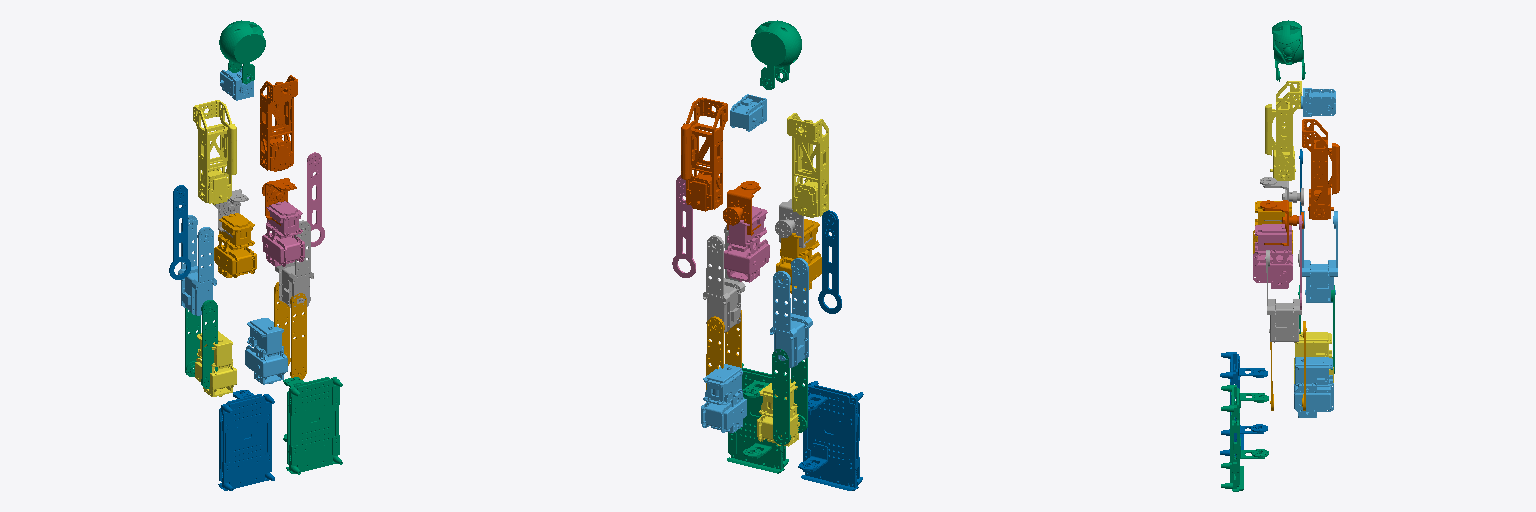
--- Render facts (derived) ---
The picture shows the robot from 3 angles, left to right: view 1: azimuth 30°, elevation 25°; view 2: azimuth 150°, elevation 25°; view 3: azimuth 270°, elevation 25°; orthographic projection.
Robot: human — 19 links, 18 joints (16 revolute, 2 fixed); root link chest; default pose: every joint at zero.
Links seen in each view (by area): view 1: right_foot, left_foot, left_arm, right_arm, left_leg_pitch, right_leg_ankle, right_leg_roll, left_leg_roll, left_leg_knee, right_leg_knee, head, right_leg_pitch (+6 smaller); view 2: left_foot, right_arm, left_arm, left_leg_pitch, right_foot, right_leg_ankle, left_leg_knee, head, right_leg_pitch, right_leg_roll, right_leg_knee, left_hand (+6 smaller); view 3: right_arm, left_arm, right_leg_roll, right_leg_ankle, right_foot, left_leg_pitch, right_leg_pitch, head, left_foot, neck, left_leg_ankle, right_leg_yaw (+1 smaller).
Boxes of the visible links, x1,y1,x2,y2 form: right_foot: [283, 377, 342, 474]; left_foot: [218, 390, 274, 490]; left_arm: [193, 100, 236, 204]; right_arm: [260, 75, 297, 171]; left_leg_pitch: [178, 215, 216, 315]; right_leg_ankle: [245, 318, 287, 384]; right_leg_roll: [262, 201, 304, 266]; left_leg_roll: [214, 213, 256, 277]; left_leg_knee: [185, 300, 217, 388]; right_leg_knee: [274, 282, 306, 379]; head: [219, 20, 265, 83]; right_leg_pitch: [275, 220, 313, 307]; left_foot: [798, 381, 863, 490]; right_arm: [681, 97, 727, 211]; left_arm: [787, 113, 828, 217]; left_leg_pitch: [770, 258, 812, 367]; right_foot: [727, 363, 788, 473]; right_leg_ankle: [701, 364, 746, 432]; left_leg_knee: [772, 349, 807, 445]; head: [751, 20, 801, 89]; right_leg_pitch: [703, 225, 745, 332]; right_leg_roll: [724, 206, 769, 282]; right_leg_knee: [706, 310, 741, 389]; left_hand: [818, 210, 841, 313]; right_arm: [1302, 119, 1339, 219]; left_arm: [1265, 81, 1301, 180]; right_leg_roll: [1253, 224, 1292, 288]; right_leg_ankle: [1294, 357, 1333, 417]; right_foot: [1221, 385, 1268, 491]; left_leg_pitch: [1302, 211, 1337, 302]; right_leg_pitch: [1265, 250, 1301, 342]; head: [1272, 20, 1305, 81]; left_foot: [1220, 352, 1267, 456]; neck: [1301, 88, 1335, 116]; left_leg_ankle: [1294, 332, 1333, 383]; right_leg_yaw: [1260, 200, 1303, 245].
Bounding box of the posed robot: 0.2915 × 0.1939 × 0.7832 m (x, y, z).
18 mesh visuals loaded from 19 distinct referenced files (18 binary STL); not drawn: 1 (reference not matched to a file when rendering).

URDF robot description (human):
<?xml version="1.0" ?>
<robot name='human'>
    <link name='chest'>
        <inertial>
            <origin rpy="0.000000 0.000000 0.000000 " xyz="-0.000184 -0.004516 -0.057124 "/>
            <mass value="0.88192504598295396"/>
            <inertia ixx="0.00046345121044283501"  ixy="-1.69677482344443e-08"  ixz="3.1548801144944602e-07"  iyy="0.000627560669282691"  iyz="-2.8050692226923402e-06"  izz="0.00057015264499342302" />
        </inertial>
        <collision name='chest_box'>
            <origin rpy="0.000000 0.000000 0.000000 " xyz="0.000000 0.005000 -0.050000 "/>
            <geometry>
            <box size="0.1125 0.0975 0.14" />
            </geometry>
        </collision>
        <collision name='chest_cylinder'>
            <origin rpy="0.000000 1.570796 0.000000 " xyz="0.000000 -0.075699 0.038000 "/>
            <geometry>
            <cylinder radius="0.008"  length="0.1146" />
            </geometry>
        </collision>
        <visual name='chest_visual'>
        <origin rpy="-1.570796327 0.0 0.0" xyz="0.0 0.0 0.0"/>
            <geometry>
            <mesh filename="../meshes/chest.STL" />
            </geometry>
        </visual>
    </link>
    <joint name='head_yaw' type='fixed'>
        <origin rpy="0.000000 0.000000 0.000000 " xyz="0 0.0134 0.020750000000000046"/>
        <parent link="chest" />
        <child link="neck" />
        <axis xyz="0 0 1"  />
        <limit lower="-3.141592654"  upper="3.141592654"  effort="3"  velocity="20"  />
        <dynamics  damping="0.0347"  friction="0.0843" />
    </joint>
    <link name='neck'>
        <inertial>
        <origin rpy="0.000000 0.000000 0.000000 " xyz="-0.000076 0.000000 0.026023 "/>
        <mass value="0.054959742050374599"/>
        <inertia ixx="1.1553114985236599e-05"  ixy="-6.3224562597767901e-12"  ixz="1.10127762796851e-07"  iyy="1.38245264991759e-05"  iyz="-6.4352650730185303e-12"  izz="1.0034260801326499e-05" />
        </inertial>
        <collision name='neck_collision1'>
        <origin rpy="0.000000 0.000000 0.000000 " xyz="0.000000 0.000000 0.030400 "/>
        <geometry>
            <box size="0.0302 0.0356 0.0396" />
        </geometry>
        </collision>
        <collision name='neck_collision2'>
        <origin rpy="0.000000 0.000000 0.000000 " xyz="0.000000 0.000027 0.033190 "/>
        <geometry>
            <box size="0.0355 0.0243864 0.0451795" />
        </geometry>
        </collision>
        <collision name='neck_collision3'>
        <origin rpy="0.000000 0.000000 0.000000 " xyz="0.000000 0.000000 0.009500 "/>
        <geometry>
            <box size="0.0342 0.0355 0.015" />
        </geometry>
        </collision>
        <visual name='neck_visual'>
            <origin rpy="-1.570796327 0.000000 0.0 " xyz="0.000000 0.000000 0.000000 "/>
        <geometry>
            <mesh filename="../meshes/neck.STL" />
        </geometry>
        <material name='neck_material'>
            <rgba>1 1 1 1</rgba>
        </material>
        </visual>
    </link>
    <joint name='head_pitch' type='fixed'>
        <origin rpy="1.570796 -1.491213 -1.570796 " xyz="-0.018750 0.000000 0.043800 "/>
        <parent link="neck" />
        <child link="head" />
        <axis xyz="-4.5536491244391186e-18 0 1"  />
        <limit lower="-3.141592654"  upper="3.141592654"  effort="3"  velocity="20"  />
        <dynamics  damping="0.0347"  friction="0.0843" />
    </joint>
    <link name='head'>
        <inertial>
        <origin rpy="0.000000 0.000000 0.000000 " xyz="0.051352 0.005381 -0.018302 "/>
        <mass value="0.080370395509901299"/>
        <inertia ixx="2.0782839377867802e-05"  ixy="-5.7039686565431499e-07"  ixz="-6.5737404978777497e-09"  iyy="4.5624129183850597e-05"  iyz="1.34009185452834e-08"  izz="3.6502070438585903e-05" />
        </inertial>
        <collision name='head_collision1'>
        <origin rpy="0.000000 0.000000 0.000000 " xyz="0.058663 0.006591 -0.018500 "/>
        <geometry>
            <sphere radius="0.0305397"   />
        </geometry>
        </collision>
        <collision name='head_collision2'>
        <origin rpy="0.000000 0.000000 0.000000 " xyz="0.051820 0.007006 -0.018500 "/>
        <geometry>
            <sphere radius="0.0284086"   />
        </geometry>
        </collision>
        <collision name='head_collision3'>
        <origin rpy="0.000000 0.000000 0.000000 " xyz="0.056195 -0.004012 -0.018500 "/>
        <geometry>
            <sphere radius="0.0349883"   />
        </geometry>
        </collision>
        <visual name='head_visual'>
        <origin rpy="-1.570796327  0.000000 0.0 " xyz="0.000000 0.000000 0.000000 "/>
        <geometry>
            <mesh filename="../meshes/head.STL" />
        </geometry>
        <material name='head_material'>
            <rgba>1 1 1 1</rgba>
        </material>
        </visual>
    </link>
    <joint name='left_arm_upper' type='revolute'>
        <origin rpy="3.141593 1.570796 0.000000 " xyz="-0.074700 0.013400 0.000000 "/>
        <parent link="chest" />
        <child link="left_arm" />
        <axis xyz="0 0 -1"  />
        <limit lower="-3.141592654"  upper="3.141592654"  effort="7"  velocity="20"  />
        <dynamics  damping="0.0347"  friction="0.0843"  />
    </joint>
    <link name='left_arm'>
        <inertial>
        <origin rpy="0.000000 0.000000 0.000000 " xyz="0.080763 0.001886 0.029109 "/>
        <mass value="0.140880482426088"/>
        <inertia ixx="2.0746461598375701e-05"  ixy="-2.8659021101734599e-11"  ixz="-6.7417528894394298e-06"  iyy="0.00012310039515784201"  iyz="-1.5929639449771301e-07"  izz="0.00011999284945507099" />
        </inertial>
        <collision name='left_arm_collision'>
        <origin rpy="0.000000 0.000000 0.000000 " xyz="0.080500 0.000000 0.029000 "/>
        <geometry>
            <box size="0.1271 0.048 0.028" />
        </geometry>
        </collision>
        <visual name='left_arm_visual'>
            <origin rpy="-1.570796327 0.000000 0.0 " xyz="0.000000 0.000000 0.000000 "/>
            <geometry>
                <mesh filename="../meshes/left_arm.STL" />
            </geometry>
            <material name='left_arm_material'>
                <rgba>1 1 1 1</rgba>
            </material>
        </visual>
    </link>
    <joint name='left_arm_lower' type='revolute'>
        <origin rpy="0.0 0.0 0.0 " xyz="0.136000 0 0.04955"/>
        <parent link="left_arm" />
        <child link="left_hand" />
        <axis xyz="0 0 -1"  />
        <limit lower="-3.141592654"  upper="3.141592654"  effort="3"  velocity="20"  />
        <dynamics  damping="0.0347"  friction="0.0843" />
    </joint>
    <link name='left_hand'>
        <inertial>
        <origin rpy="0.000000 0.000000 0.000000 " xyz="0.063649 -0.000000 0.001319 "/>
        <mass value="0.024044269196268502"/>
        <inertia ixx="1.94691318232501e-06"  ixy="1.9798400242031498e-12"  ixz="1.70538796340321e-12"  iyy="4.9981652993954002e-05"  iyz="7.0639482370012499e-13"  izz="5.1889171468805399e-05" />
        </inertial>
        <collision name='left_hand_end_collision'>
        <origin rpy="0.000000 0.000000 0.000000 " xyz="0.135000 0.000000 0.001500 "/>
        <geometry>
            <cylinder radius="0.02"  length="0.003" />
        </geometry>
        </collision>
        <collision name='left_hand_base_collision'>
        <origin rpy="0.000000 0.000000 0.000000 " xyz="0.000000 0.000000 0.000500 "/>
        <geometry>
            <cylinder radius="0.0146"  length="0.005" />
        </geometry>
        </collision>
        <collision name='left_hand_connection_collision'>
        <origin rpy="0.000000 0.000000 0.000000 " xyz="0.060122 0.000000 0.001500 "/>
        <geometry>
            <box size="0.120244 0.027 0.003" />
        </geometry>
        </collision>
        <visual name='left_hand_visual'>
            <origin rpy="-1.570796327 0.000000 0.0 " xyz="0.000000 0.000000 0.000000 "/>
        <geometry>
            <mesh filename="../meshes/left_hand.STL" />
        </geometry>
        <material name='left_hand_material'>
            <rgba>1 1 1 1</rgba>
        </material>
        </visual>
    </link>
    <joint name='right_arm_upper' type='revolute'>
        <origin rpy="0.000000 1.570796 0.000000 " xyz="0.074700 0.013400 0.000000 "/>
        <parent link="chest" />
        <child link="right_arm" />
        <axis xyz="0 0 1"  />
        <limit lower="-3.141592654"  upper="3.141592654"  effort="7"  velocity="20"  />
        <dynamics  damping="0.0347"  friction="0.0843" />
    </joint>
    <link name='right_arm'>
        <inertial>
            <origin rpy="0.000000 0.000000 0.000000 " xyz="0.080812 -0.001871 0.029108 "/>
            <mass value="0.140880482426088"/>
            <inertia ixx="2.0746461598375701e-05"  ixy="3.0340088781543498e-07"  ixz="-6.7417528894395102e-06"  iyy="0.00012310039515784201"  iyz="1.5929818113849301e-07"  izz="0.00011999284945507099" />
        </inertial>
        <collision name='right_arm_collision'>
            <origin rpy="0.000000 0.000000 0.000000 " xyz="0.080500 0.000000 0.029000 "/>
            <geometry>
            <box size="0.1271 0.048 0.028" />
            </geometry>
        </collision>
        <visual name='right_arm_visual'>
            <origin rpy="-1.570796327 0.000000 0.0 " xyz="0.000000 0.000000 0.000000 "/>
            <geometry>
            <mesh filename="../meshes/right_arm.STL" />
            </geometry>
            <material name='right_arm_material'>
            <rgba>1 1 1 1</rgba>
            </material>
        </visual>
    </link>
    <joint name='right_arm_lower' type='revolute'>
        <origin rpy="0.000000 0.0 0.000000 " xyz="0.136000 0 0.05255 "/>
        <parent link="right_arm" />
        <child link="right_hand" />
        <axis xyz="0 0 1"  />
        <limit lower="-3.141592654"  upper="3.141592654"  effort="3"  velocity="20"  />
        <dynamics  damping="0.0347"  friction="0.0843" />
    </joint>
    <link name='right_hand'>
      <inertial>
          <origin rpy="0.000000 0.000000 0.000000 " xyz="0.063649 0.000000 -0.001681 "/>
          <mass value="0.024044269196268502"/>
          <inertia ixx="1.94691318232501e-06"  ixy="-1.9798400205047599e-12"  ixz="1.70538796039851e-12"  iyy="4.9981652993954097e-05"  iyz="-7.0639482380154195e-13"  izz="5.1889171468805501e-05" />
      </inertial>
      <collision name='right_hand_end_collision'>
          <origin rpy="0.000000 0.000000 0.000000 " xyz="0.135000 0.000000 -0.001500 "/>
          <geometry>
          <cylinder radius="0.02"  length="0.003" />
          </geometry>
          <sdf resolution = "512"/>
      </collision>
      <collision name='right_hand_base_collision'>
          <origin rpy="0.000000 0.000000 0.000000 " xyz="0.000000 0.000000 -0.002500 "/>
          <geometry>
          <cylinder radius="0.0146"  length="0.005" />
          </geometry>
          <sdf resolution = "512"/>
      </collision>
      <collision name='right_hand_connection_collision'>
          <origin rpy="0.000000 0.000000 0.000000 " xyz="0.060122 0.000000 -0.001500 "/>
          <geometry>
          <box size="0.120244 0.027 0.003" />
          </geometry>
          <sdf resolution = "512"/>
      </collision>
      <visual name='right_hand_visual'>
              <origin rpy="-1.570796327 0.000000 0.0 " xyz="0.000000 0.000000 0.000000 "/>
          <geometry>
          <mesh filename="../meshes/right_hand.STL" />
          </geometry>
          <material name='right_hand_material'>
          <rgba>1 1 1 1</rgba>
          </material>
      </visual>
    </link>
    <joint name='left_hip_yaw' type='revolute'>
      <origin rpy="0.000000 0.000000 0.000000 " xyz="-0.044999999999999998 0.0133599999999985 -0.16994999999999999 "/>
      <parent link="chest" />
      <child link="left_leg_yaw" />
      <axis xyz="0 0 -1"  />
      <limit lower="-3.141592654"  upper="3.141592654"  effort="7"  velocity="20"  />
      <dynamics  damping="0.0347"  friction="0.0843" />
    </joint>
    <link name='left_leg_yaw'>
      <inertial>
        <origin rpy="0.000000 0.000000 0.000000 " xyz="0.000000 0.003285 -0.029821 "/>
        <mass value="0.058662024462932297"/>
        <inertia ixx="3.0496686582707501e-05"  ixy="-8.4677743033588304e-14"  ixz="8.5574380306308406e-14"  iyy="1.16928645977672e-05"  iyz="-9.4199503165967801e-08"  izz="3.04113434807083e-05" />
      </inertial>
      <collision name='left_leg_yaw_collision'>
        <origin rpy="0.000000 0.000000 0.000000 " xyz="0.000000 0.005150 -0.022500 "/>
        <geometry>
          <box size="0.041 0.0637 0.003" />
        </geometry>
          <sdf resolution = "512"/>
      </collision>
      <visual name='left_leg_yaw_visual'>
            <origin rpy="-1.570796327 0.000000 0.0 " xyz="0.000000 0.000000 0.000000 "/>
        <geometry>
          <mesh filename="../meshes/left_leg_yaw.STL" />
        </geometry>
        <material name='left_leg_yaw_material'>
          <rgba>0.990196109 1 1 1</rgba>
        </material>
      </visual>
    </link>
    <joint name='left_hip_roll' type='revolute'>
      <origin rpy="0.000000 0.000000 0.000000 " xyz="0.0 -0.0292 -0.055 "/>
      <parent link="left_leg_yaw" />
      <child link="left_leg_roll" />
      <axis xyz="0 1 0"  />
      <limit lower="-3.141592654"  upper="3.141592654"  effort="7"  velocity="20"  />
      <dynamics  damping="0.0347"  friction="0.0843" />
    </joint>
    <link name='left_leg_roll'>
      <inertial>
        <origin rpy="0.000000 0.000000 0.000000 " xyz="0.000025 0.010978 -0.014084 "/>
        <mass value="0.17675216665704899"/>
        <inertia ixx="6.1790335519862398e-05"  ixy="-9.41308133856575e-10"  ixz="-2.1169089800936899e-07"  iyy="6.5889939337192494e-05"  iyz="-2.14817110544029e-07"  izz="3.9028076120466002e-05" />
      </inertial>
      <collision name='left_leg_roll_upper_collision'>
        <origin rpy="0.000000 0.000000 0.000000 " xyz="0.000000 0.030650 -0.018117 "/>
        <geometry>
          <box size="0.0502 0.0643 0.0652552" />
        </geometry>
          <sdf resolution = "512"/>
      </collision>
      <collision name='left_leg_roll_lower_collision'>
        <origin rpy="0.000000 0.000000 0.000000 " xyz="0.000000 -0.039750 -0.014838 "/>
        <geometry>
          <box size="0.028997 0.0035 0.0553928" />
        </geometry>
          <sdf resolution = "512"/>
      </collision>
      <collision name='left_leg_roll_down_collision'>
        <origin rpy="0.000000 0.000000 0.000000 " xyz="0.000014 -0.019000 -0.017550 "/>
        <geometry>
          <box size="0.0403884 0.038 0.0611006" />
        </geometry>
          <sdf resolution = "512"/>
      </collision>
      <visual name='left_leg_roll_visual'>
            <origin rpy="-1.570796327 0.000000 0.0 " xyz="0.000000 0.000000 0.000000 "/>
        <geometry>
          <mesh filename="../meshes/left_leg_roll.STL" />
        </geometry>
        <material name='left_leg_roll_material'>
          <rgba>0.313725501 0.313725501 0.313725501 1</rgba>
        </material>
      </visual>
    </link>
    <joint name='left_hip_pitch' type='revolute'>
      <origin rpy="-0.340598 1.565932 2.800991 " xyz="-0.028999695 0.0292 0.000132953 "/>
      <parent link="left_leg_roll" />
      <child link="left_leg_pitch" />
      <axis xyz="0 0 -1"  />
      <limit lower="-3.141592654"  upper="3.141592654"  effort="10"  velocity="20"  />
      <dynamics damping="0.0414"  friction="0.1179" />
    </joint>
    <link name='left_leg_pitch'>
      <inertial>
        <origin rpy="0.000000 0.000000 0.000000 " xyz="0.037597 -0.000000 -0.027982 "/>
        <mass value="0.027887725075667901"/>
        <inertia ixx="2.41537468742227e-06"  ixy="3.2274965794789498e-14"  ixz="4.7964487075471796e-12"  iyy="1.14633756275734e-05"  iyz="7.7934947477887403e-15"  izz="1.3716039319153201e-05" />
      </inertial>
      <collision name='left_leg_pitch_big_collision'>
        <origin rpy="0.000000 0.000000 0.000000 " xyz="0.114750 0.000000 -0.028992 "/>
        <geometry>
          <box size="0.0595 0.029 0.0459848" />
        </geometry>
          <sdf resolution = "512"/>
      </collision>
      <collision name='left_leg_pitch_p_one0_collision'>
        <origin rpy="0.000000 0.000000 0.000000 " xyz="0.111950 0.000000 -0.012750 "/>
        <geometry>
          <box size="0.0651 0.029 0.0015" />
        </geometry>
          <sdf resolution = "512"/>
      </collision>
      <collision name='left_leg_pitch_p_one1_collision'>
        <origin rpy="0.000000 0.000000 0.000000 " xyz="0.111950 0.000000 -0.012750 "/>
        <geometry>
          <box size="0.0539 0.0402 0.0015" />
        </geometry>
          <sdf resolution = "512"/>
      </collision>
      <collision name='left_leg_pitch_p_two0_collision'>
        <origin rpy="0.000000 0.000000 0.000000 " xyz="0.111950 0.000000 -0.045250 "/>
        <geometry>
          <box size="0.0651 0.029 0.0015" />
        </geometry>
          <sdf resolution = "512"/>
      </collision>
      <collision name='left_leg_pitch_p_two1_collision'>
        <origin rpy="0.000000 0.000000 0.000000 " xyz="0.111950 0.000000 -0.045250 "/>
        <geometry>
          <box size="0.0539 0.0402 0.0015" />
        </geometry>
          <sdf resolution = "512"/>
      </collision>
      <visual name='left_leg_pitch_visual'>
            <origin rpy="-1.570796327 0.000000 0.0 " xyz="0.000000 0.000000 0.000000 "/>
        <geometry>
          <mesh filename="../meshes/left_leg_pitch.STL" />
        </geometry>
        <material name='left_leg_pitch_material'>
          <rgba>0.941176474 0.941176474 0.941176474 1</rgba>
        </material>
      </visual>
    </link>
    <joint name='left_knee' type='revolute'>
      <origin rpy="0 0 0 " xyz="0.130023677484126 -0.000211229839968 -0.004903944887406 "/>
      <parent link="left_leg_pitch" />
      <child link="left_leg_knee" />
      <axis xyz="0 0 1"  />
      <limit lower="-3.141592654"  upper="3.141592654"  effort="10"  velocity="20"  />
      <dynamics damping="0.0414"  friction="0.1179" />
    </joint>
    <link name='left_leg_knee'>
      <inertial>
        <origin rpy="0.000000 0.000000 0.000000 " xyz="0.084360 -0.000000 -0.024128 "/>
        <mass value="0.0328192125267944"/>
        <inertia ixx="1.9489049933254499e-06"  ixy="2.35500388345378e-20"  ixz="-4.79645500496334e-12"  iyy="4.3073341622455502e-05"  iyz="9.3300803217153103e-22"  izz="4.4968042537653101e-05" />
      </inertial>
      <collision name='left_leg_knee_collision0'>
        <origin rpy="0.000000 0.000000 0.000000 " xyz="0.000000 0.000000 -0.049750 "/>
        <geometry>
          <cylinder radius="0.014"  length="0.0055" />
        </geometry>
          <sdf resolution = "512"/>
      </collision>
      <collision name='left_leg_knee_collision1'>
        <origin rpy="0.000000 0.000000 0.000000 " xyz="0.000000 0.000000 0.003000 "/>
        <geometry>
          <cylinder radius="0.014"  length="0.0055" />
        </geometry>
          <sdf resolution = "512"/>
      </collision>
      <collision name='left_leg_knee_collision2'>
        <origin rpy="0.000000 0.000000 0.000000 " xyz="0.130360 0.000000 -0.049750 "/>
        <geometry>
          <cylinder radius="0.014"  length="0.0055" />
        </geometry>
          <sdf resolution = "512"/>
      </collision>
      <collision name='left_leg_knee_collision3'>
        <origin rpy="0.000000 0.000000 0.000000 " xyz="0.130360 0.000000 0.003000 "/>
        <geometry>
          <cylinder radius="0.014"  length="0.0055" />
        </geometry>
          <sdf resolution = "512"/>
      </collision>
      <visual name='left_leg_knee_visual'>
            <origin rpy="-1.570796327 0.000000 0.0 " xyz="0.000000 0.000000 0.000000 "/>
        <geometry>
          <mesh filename="../meshes/left_leg_knee.STL" />
        </geometry>
        <material name='left_leg_knee_material'>
          <rgba>0.941176474 0.941176474 0.941176474 1</rgba>
        </material>
      </visual>
    </link>
    <joint name='left_ankle_pitch' type='revolute'>
      <origin rpy="2.96537 1.58011 -0.174599 " xyz="0.129998462179975 -0.000211229839968 0.000595997311238 "/>
      <parent link="left_leg_knee" />
      <child link="left_leg_ankle" />
      <axis xyz="1 0 0"  />
      <limit lower="-3.141592654"  upper="3.141592654"  effort="10"  velocity="20"  />
      <dynamics  damping="0.0414"  friction="0.1179" />
    </joint>
    <link name='left_leg_ankle'>
      <inertial>
        <origin rpy="0.000000 0.000000 0.000000 " xyz="0.023591 -0.016018 0.014280 "/>
        <mass value="0.173948205448793"/>
        <inertia ixx="6.1525563546113303e-05"  ixy="-4.3529887410332497e-11"  ixz="1.07316479776985e-07"  iyy="6.5767469559665899e-05"  iyz="-1.9005632960375801e-07"  izz="3.8828440030109099e-05" />
      </inertial>
      <collision name='left_leg_ankle_small_collision'>
        <origin rpy="0.000000 0.000000 0.000000 " xyz="0.023508 -0.043500 0.014752 "/>
        <geometry>
          <box size="0.0289848 0.041 0.0554962" />
        </geometry>
          <sdf resolution = "512"/>
      </collision>
      <collision name='left_leg_ankle_small11_collision'>
        <origin rpy="0.000000 0.000000 0.000000 " xyz="0.023500 -0.058250 0.017550 "/>
        <geometry>
          <box size="0.0290000 0.0045 0.0611" />
        </geometry>
          <sdf resolution = "512"/>
      </collision>
      <collision name='left_leg_ankle_small12_collision'>
        <origin rpy="0.000000 0.000000 0.000000 " xyz="0.023500 -0.058250 0.017550 "/>
        <geometry>
          <box size="0.0402 0.0045 0.0499" />
        </geometry>
          <sdf resolution = "512"/>
      </collision>
      <collision name='left_leg_ankle_small21_collision'>
        <origin rpy="0.000000 0.000000 0.000000 " xyz="0.023500 -0.028739 0.017550 "/>
        <geometry>
          <box size="0.029 0.0045 0.0611" />
        </geometry>
          <sdf resolution = "512"/>
      </collision>
      <collision name='left_leg_ankle_small22_collision'>
        <origin rpy="0.000000 0.000000 0.000000 " xyz="0.023500 -0.028739 0.017550 "/>
        <geometry>
          <box size="0.0402 0.0045 0.0499" />
        </geometry>
          <sdf resolution = "512"/>
      </collision>
      <collision name='left_leg_ankle_big_collision'>
        <origin rpy="0.000000 0.000000 0.000000 " xyz="0.023500 0.000000 0.015250 "/>
        <geometry>
          <box size="0.046 0.029 0.0595" />
        </geometry>
          <sdf resolution = "512"/>
      </collision>
      <collision name='left_leg_ankle_big11_collision'>
        <origin rpy="0.000000 0.000000 0.000000 " xyz="0.038750 0.000000 0.018050 "/>
        <geometry>
          <box size="0.0035 0.029 0.0651" />
        </geometry>
          <sdf resolution = "512"/>
      </collision>
      <collision name='left_leg_ankle_big12_collision'>
        <origin rpy="0.000000 0.000000 0.000000 " xyz="0.038750 0.000000 0.018050 "/>
        <geometry>
          <box size="0.0035 0.0402 0.0539" />
        </geometry>
          <sdf resolution = "512"/>
      </collision>
      <collision name='left_leg_ankle_big21_collision'>
        <origin rpy="0.000000 0.000000 0.000000 " xyz="0.008000 0.000000 0.018050 "/>
        <geometry>
          <box size="0.003 0.029 0.0651" />
        </geometry>
          <sdf resolution = "512"/>
      </collision>
      <collision name='left_leg_ankle_big22_collision'>
        <origin rpy="0.000000 0.000000 0.000000 " xyz="0.008000 0.000000 0.018050 "/>
        <geometry>
          <box size="0.0035 0.0402 0.0539" />
        </geometry>
          <sdf resolution = "512"/>
      </collision>
      <collision name='left_leg_ankle_upper_collision'>
        <origin rpy="0.000000 0.000000 0.000000 " xyz="0.023500 0.027850 0.007000 "/>
        <geometry>
          <box size="0.039 0.0027 0.03" />
        </geometry>
          <sdf resolution = "512"/>
      </collision>
      <visual name='left_leg_ankle_visual'>
            <origin rpy="-1.570796327 0.000000 0.0 " xyz="0.000000 0.000000 0.000000 "/>
        <geometry>
          <mesh filename="../meshes/left_leg_ankle.STL" />
        </geometry>
        <material name='left_leg_ankle_material'>
          <rgba>0.367647082 0.367647082 0.367647082 1</rgba>
        </material>
      </visual>
    </link>
    <joint name='left_ankle_roll' type='revolute'>
      <origin rpy="0.0 0.0 0.0 " xyz="0.023387 -0.069538 -0.000113445 "/>
      <parent link="left_leg_ankle" />
      <child link="left_foot" />
      <axis xyz="0 -1 0"  />
      <limit lower="-3.141592654"  upper="3.141592654"  effort="7"  velocity="20"  />
      <dynamics  damping="0.0347"  friction="0.0843" />
    </joint>
    <link name='left_foot'>
      <inertial>
        <origin rpy="0.000000 0.000000 0.000000 " xyz="-0.012987 0.068288 -0.035868 "/>
        <mass value="0.144176668751163"/>
        <inertia ixx="0.00014149565462157499"  ixy="-1.52740202739877e-09"  ixz="1.9349728888557201e-07"  iyy="5.0645258641957197e-05"  iyz="-3.3396462913510601e-07"  izz="0.000183700741709755" />
      </inertial>
      <collision name='left_foot_box1_collision'>
        <origin rpy="0.000000 0.000000 0.000000 " xyz="-0.016188 0.066000 -0.040926 "/>
        <geometry>
          <box size="0.09 0.126 0.016" />
        </geometry>
          <sdf resolution = "512"/>
      </collision>
      <collision name='left_foot_box2_collision'>
        <origin rpy="0.000000 0.000000 0.000000 " xyz="-0.016211 0.066023 -0.040926 "/>
        <geometry>
          <box size="0.0659544 0.149954 0.012" />
        </geometry>
          <sdf resolution = "512"/>
      </collision>
      <collision name='left_foot_box3_collision'>
        <origin rpy="0.000000 0.000000 0.000000 " xyz="-0.016188 0.066000 -0.040926 "/>
        <geometry>
          <box size="0.087 0.147 0.006" />
        </geometry>
          <sdf resolution = "512"/>
      </collision>
      <collision name='left_foot_box4_collision'>
        <origin rpy="0.000000 0.000000 0.000000 " xyz="-0.016172 0.141086 -0.037589 "/>
        <geometry>
          <box size="0.09 0.00582764 0.0186744" />
        </geometry>
          <sdf resolution = "512"/>
      </collision>
      <collision name='left_foot_cylinder11_collision'>
        <origin rpy="0.000000 0.000000 0.000000 " xyz="0.022706 0.135500 -0.057119 "/>
        <geometry>
          <cylinder radius="0.003"  length="0.014" />
        </geometry>
          <sdf resolution = "512"/>
      </collision>
      <collision name='left_foot_cylinder12_collision'>
        <origin rpy="0.000000 0.000000 0.000000 " xyz="0.022706 0.135500 -0.047119 "/>
        <geometry>
          <cylinder radius="0.0055"  length="0.006" />
        </geometry>
          <sdf resolution = "512"/>
      </collision>
      <collision name='left_foot_cylinder21_collision'>
        <origin rpy="0.000000 0.000000 0.000000 " xyz="-0.055293 0.135500 -0.057119 "/>
        <geometry>
          <cylinder radius="0.003"  length="0.014" />
        </geometry>
          <sdf resolution = "512"/>
      </collision>
      <collision name='left_foot_cylinder22_collision'>
        <origin rpy="0.000000 0.000000 0.000000 " xyz="-0.055293 0.135500 -0.047119 "/>
        <geometry>
          <cylinder radius="0.0055"  length="0.006" />
        </geometry>
          <sdf resolution = "512"/>
      </collision>
      <collision name='left_foot_cylinder31_collision'>
        <origin rpy="0.000000 0.000000 0.000000 " xyz="0.022706 -0.003500 -0.057119 "/>
        <geometry>
          <cylinder radius="0.003"  length="0.014" />
        </geometry>
          <sdf resolution = "512"/>
      </collision>
      <collision name='left_foot_cylinder32_collision'>
        <origin rpy="0.000000 0.000000 0.000000 " xyz="0.022706 -0.003500 -0.047119 "/>
        <geometry>
          <cylinder radius="0.0055"  length="0.006" />
        </geometry>
          <sdf resolution = "512"/>
      </collision>
      <collision name='left_foot_cylinder41_collision'>
        <origin rpy="0.000000 0.000000 0.000000 " xyz="-0.055293 -0.003500 -0.057119 "/>
        <geometry>
          <cylinder radius="0.003"  length="0.014" />
        </geometry>
          <sdf resolution = "512"/>
      </collision>
      <collision name='left_foot_cylinder42_collision'>
        <origin rpy="0.000000 0.000000 0.000000 " xyz="-0.055293 -0.003500 -0.047119 "/>
        <geometry>
          <cylinder radius="0.0055"  length="0.006" />
        </geometry>
          <sdf resolution = "512"/> -->
      </collision>
      <visual name='left_foot_visual'>
            <origin rpy="-1.570796327 0.000000 0.0 " xyz="0.000000 0.000000 0.000000 "/>
        <geometry>
          <mesh filename="../meshes/left_foot.STL" />
        </geometry>
        <material name='left_foot_material'>
          <rgba>1 1 1 1</rgba>
        </material>
      </visual>
    </link>
    <joint name='right_hip_yaw' type='revolute'>
      <origin rpy="0.000000 0.000000 0.000000 " xyz="0.045000 0.013360 -0.169950 "/>
      <parent link="chest" />
      <child link="right_leg_yaw" />
      <axis xyz="0 0 -1"  />
      <limit lower="-3.141592654"  upper="3.141592654"  effort="7"  velocity="20"  />
      <dynamics  damping="0.0347"  friction="0.0843" />
    </joint>
    <link name='right_leg_yaw'>
      <inertial>
        <origin rpy="0.000000 0.000000 0.000000 " xyz="-0.000000 0.003285 -0.029821 "/>
        <mass value="0.0586620244629322"/>
        <inertia ixx="3.0496686583123601e-05"  ixy="-3.16154434574983e-14"  ixz="-1.34169348176914e-13"  iyy="1.16928645977672e-05"  iyz="-9.4199503115753094e-08"  izz="3.0411343480292098e-05" />
      </inertial>
      <collision name='right_leg_yaw_collision'>
        <origin rpy="0.000000 0.000000 0.000000 " xyz="0.000000 0.005150 -0.022500 "/>
        <geometry>
          <box size="0.041 0.0637 0.003" />
        </geometry>
          <sdf resolution = "512"/>
      </collision>
      <visual name='right_leg_yaw_visual'>
            <origin rpy="-1.570796327 0.000000 0.0 " xyz="0.000000 0.000000 0.000000 "/>
        <geometry>
          <mesh filename="../meshes/right_leg_yaw.STL" />
        </geometry>
        <material name='right_leg_yaw_material'>
          <rgba>0.990196109 1 1 1</rgba>
        </material>
      </visual>
    </link>
    <joint name='right_hip_roll' type='revolute'>
      <origin rpy="0.000000 -0.006478 0.000000 " xyz="0.0 -0.0292 -0.055 "/>
      <parent link="right_leg_yaw" />
      <child link="right_leg_roll" />
      <axis xyz="0 -1 0"  />
      <limit lower="-3.141592654"  upper="3.141592654"  effort="7"  velocity="20"  />
      <dynamics  damping="0.0347"  friction="0.0843" />
    </joint>
    <link name='right_leg_roll'>
      <inertial>
        <origin rpy="0.000000 0.000000 0.000000 " xyz="0.000090 0.010978 -0.014084 "/>
        <mass value="0.176752167034151"/>
        <inertia ixx="6.1791798147460997e-05"  ixy="4.3532300340763102e-11"  ixz="-1.07327270209975e-07"  iyy="6.5889939430164294e-05"  iyz="-2.14819182994814e-07"  izz="3.9026613600567697e-05" />
      </inertial>
      <collision name='right_leg_roll_upper_collision'>
        <origin rpy="0.000000 0.000000 0.000000 " xyz="0.000000 0.030650 -0.018117 "/>
        <geometry>
          <box size="0.0502 0.0643 0.0652552" />
        </geometry>
          <sdf resolution = "512"/>
      </collision>
      <collision name='right_leg_roll_lower_collision'>
        <origin rpy="0.000000 0.000000 0.000000 " xyz="0.000000 -0.039750 -0.014838 "/>
        <geometry>
          <box size="0.028997 0.0035 0.0553928" />
        </geometry>
          <sdf resolution = "512"/>
      </collision>
      <collision name='right_leg_roll_down_collision'>
        <origin rpy="0.000000 0.000000 0.000000 " xyz="0.000014 -0.019000 -0.017550 "/>
        <geometry>
          <box size="0.0403884 0.038 0.0611006" />
        </geometry>
          <sdf resolution = "512"/>
      </collision>
      <visual name='right_leg_roll_visual'>
            <origin rpy="-1.570796327 0.000000 0.0 " xyz="0.000000 0.000000 0.000000 "/>
        <geometry>
          <mesh filename="../meshes/right_leg_roll.STL" />
        </geometry>
        <material name='right_leg_roll_material'>
          <rgba>0.313725501 0.313725501 0.313725501 1</rgba>
        </material>
      </visual>
    </link>
    <joint name='right_hip_pitch' type='revolute'>
      <origin rpy="1.57078 1.56703  1.5708 " xyz="0.029 0.0292 0 "/>
      <parent link="right_leg_roll" />
      <child link="right_leg_pitch" />
      <axis xyz="0 0 1"  />
      <limit lower="-3.141592654"  upper="3.141592654"  effort="10"  velocity="20"  />
      <dynamics damping="0.0414"  friction="0.1179" />
    </joint>
    <link name='right_leg_pitch'>
      <inertial>
        <origin rpy="0.000000 0.000000 0.000000 " xyz="0.037597 0.000000 -0.030018 "/>
        <mass value="0.027887725075667901"/>
        <inertia ixx="2.4153746871926199e-06"  ixy="-7.4854894278663796e-14"  ixz="-4.7964209833556204e-12"  iyy="1.14633756278031e-05"  iyz="1.8075310725767399e-14"  izz="1.3716039319153301e-05" />
      </inertial>
      <collision name='right_leg_pitch_big_collision'>
        <origin rpy="0.000000 0.000000 0.000000 " xyz="0.114750 0.000000 -0.028992 "/>
        <geometry>
          <box size="0.0595 0.029 0.0459848" />
        </geometry>
          <sdf resolution = "512"/>
      </collision>
      <collision name='right_leg_pitch_p_one0_collision'>
        <origin rpy="0.000000 0.000000 0.000000 " xyz="0.111950 0.000000 -0.012750 "/>
        <geometry>
          <box size="0.0651 0.029 0.0015" />
        </geometry>
          <sdf resolution = "512"/>
      </collision>
      <collision name='right_leg_pitch_p_one1_collision'>
        <origin rpy="0.000000 0.000000 0.000000 " xyz="0.111950 0.000000 -0.012750 "/>
        <geometry>
          <box size="0.0539 0.0402 0.0015" />
        </geometry>
          <sdf resolution = "512"/>
      </collision>
      <collision name='right_leg_pitch_p_two0_collision'>
        <origin rpy="0.000000 0.000000 0.000000 " xyz="0.111950 0.000000 -0.045250 "/>
        <geometry>
          <box size="0.0651 0.029 0.0015" />
        </geometry>
          <sdf resolution = "512"/>
      </collision>
      <collision name='right_leg_pitch_p_two1_collision'>
        <origin rpy="0.000000 0.000000 0.000000 " xyz="0.111950 0.000000 -0.045250 "/>
        <geometry>
          <box size="0.0539 0.0402 0.0015" />
        </geometry>
          <sdf resolution = "512"/>
      </collision>
      <visual name='right_leg_pitch_visual'>
            <origin rpy="-1.570796327 0.000000 0.0 " xyz="0.000000 0.000000 0.000000 "/>
        <geometry>
          <mesh filename="../meshes/right_leg_pitch.STL" />
        </geometry>
        <material name='right_leg_pitch_material'>
          <rgba>0.941176474 0.941176474 0.941176474 1</rgba>
        </material>
      </visual>
    </link>
    <joint name='right_knee' type='revolute'>
      <origin rpy="0.0 0.0 0.0 " xyz="0.130031979223655 0.000489901482115 -0.004657722159670 "/>
      <parent link="right_leg_pitch" />
      <child link="right_leg_knee" />
      <axis xyz="-1.8970996919654565e-17 0 -1"  />
      <limit lower="-3.141592654"  upper="3.141592654"  effort="10"  velocity="20"  />
      <dynamics  damping="0.0414"  friction="0.1179" />
    </joint>
    <link name='right_leg_knee'>
      <inertial>
        <origin rpy="0.000000 0.000000 0.000000 " xyz="0.084360 -0.000000 -0.022872 "/>
        <mass value="0.0328192125267944"/>
        <inertia ixx="1.9489049933254499e-06"  ixy="-1.4998438866811501e-20"  ixz="4.7964550293966002e-12"  iyy="4.3073341622455502e-05"  iyz="4.6518569698450903e-22"  izz="4.4968042537653101e-05" />
      </inertial>
      <collision name='right_leg_knee_collision0'>
        <origin rpy="0.000000 0.000000 0.000000 " xyz="0.000000 0.000000 -0.049750 "/>
        <geometry>
          <cylinder radius="0.014"  length="0.0055" />
        </geometry>
          <sdf resolution = "512"/>
      </collision>
      <collision name='right_leg_knee_collision1'>
        <origin rpy="0.000000 0.000000 0.000000 " xyz="0.000000 0.000000 0.003000 "/>
        <geometry>
          <cylinder radius="0.014"  length="0.0055" />
        </geometry>
          <sdf resolution = "512"/>
      </collision>
      <collision name='right_leg_knee_collision2'>
        <origin rpy="0.000000 0.000000 0.000000 " xyz="0.130360 0.000000 -0.049750 "/>
        <geometry>
          <cylinder radius="0.014"  length="0.0055" />
        </geometry>
          <sdf resolution = "512"/>
      </collision>
      <collision name='right_leg_knee_collision3'>
        <origin rpy="0.000000 0.000000 0.000000 " xyz="0.130360 0.000000 0.003000 "/>
        <geometry>
          <cylinder radius="0.014"  length="0.0055" />
        </geometry>
          <sdf resolution = "512"/>
      </collision>
      <visual name='right_leg_knee_visual'>
            <origin rpy="-1.570796327 0.000000 0.0 " xyz="0.000000 0.000000 0.000000 "/>
        <geometry>
          <mesh filename="../meshes/right_leg_knee.STL" />
        </geometry>
        <material name='right_leg_knee_material'>
          <rgba>0.941176474 0.941176474 0.941176474 1</rgba>
        </material>
      </visual>
    </link>
    <joint name='right_ankle_pitch' type='revolute'>
      <origin rpy="1.56716 -1.56838 -1.57091 " xyz="0.129976266544291 0.000489901482115 0.003942097378979 "/>
      <parent link="right_leg_knee" />
      <child link="right_leg_ankle" />
      <axis xyz="1 0 0"  />
      <limit lower="-3.141592654"  upper="3.141592654"  effort="10"  velocity="20"  />
      <dynamics  damping="0.0414"  friction="0.1179" />
    </joint>
    <link name='right_leg_ankle'>
      <inertial>
        <origin rpy="0.000000 0.000000 0.000000 " xyz="-0.026509 -0.016018 0.014280 "/>
        <mass value="0.17394820501059499"/>
        <inertia ixx="6.1525563468979203e-05"  ixy="-4.3542375080641399e-11"  ixz="1.0731643525882001e-07"  iyy="6.5767469449289794e-05"  iyz="-1.90056299790816e-07"  izz="3.8828439931667398e-05" />
      </inertial>
      <collision name='right_leg_ankle_small_collision'>
        <origin rpy="0.000000 0.000000 0.000000 " xyz="-0.026608 -0.043500 0.014752 "/>
        <geometry>
          <box size="0.0289848 0.041 0.0554962" />
        </geometry>
          <sdf resolution = "512"/>
      </collision>
      <collision name='right_leg_ankle_small11_collision'>
        <origin rpy="0.000000 0.000000 0.000000 " xyz="-0.026600 -0.058250 0.017550 "/>
        <geometry>
          <box size="0.0290000 0.0045 0.0611" />
        </geometry>
          <sdf resolution = "512"/>
      </collision>
      <collision name='right_leg_ankle_small12_collision'>
        <origin rpy="0.000000 0.000000 0.000000 " xyz="-0.026600 -0.058250 0.017550 "/>
        <geometry>
          <box size="0.0402 0.0045 0.0499" />
        </geometry>
          <sdf resolution = "512"/>
      </collision>
      <collision name='right_leg_ankle_small21_collision'>
        <origin rpy="0.000000 0.000000 0.000000 " xyz="-0.026600 -0.028739 0.017550 "/>
        <geometry>
          <box size="0.029 0.0045 0.0611" />
        </geometry>
          <sdf resolution = "512"/>
      </collision>
      <collision name='right_leg_ankle_small22_collision'>
        <origin rpy="0.000000 0.000000 0.000000 " xyz="-0.026600 -0.028739 0.017550 "/>
        <geometry>
          <box size="0.0402 0.0045 0.0499" />
        </geometry>
          <sdf resolution = "512"/>
      </collision>
      <collision name='right_leg_ankle_big_collision'>
        <origin rpy="0.000000 0.000000 0.000000 " xyz="-0.026600 0.000000 0.015250 "/>
        <geometry>
          <box size="0.046 0.029 0.0595" />
        </geometry>
          <sdf resolution = "512"/>
      </collision>
      <collision name='right_leg_ankle_big11_collision'>
        <origin rpy="0.000000 0.000000 0.000000 " xyz="-0.041850 0.000000 0.018050 "/>
        <geometry>
          <box size="0.0035 0.029 0.0651" />
        </geometry>
          <sdf resolution = "512"/>
      </collision>
      <collision name='right_leg_ankle_big12_collision'>
        <origin rpy="0.000000 0.000000 0.000000 " xyz="-0.041850 0.000000 0.018050 "/>
        <geometry>
          <box size="0.0035 0.0402 0.0539" />
        </geometry>
          <sdf resolution = "512"/>
      </collision>
      <collision name='right_leg_ankle_big21_collision'>
        <origin rpy="0.000000 0.000000 0.000000 " xyz="-0.011100 0.000000 0.018050 "/>
        <geometry>
          <box size="0.003 0.029 0.0651" />
        </geometry>
          <sdf resolution = "512"/>
      </collision>
      <collision name='right_leg_ankle_big22_collision'>
        <origin rpy="0.000000 0.000000 0.000000 " xyz="-0.011100 0.000000 0.018050 "/>
        <geometry>
          <box size="0.0035 0.0402 0.0539" />
        </geometry>
          <sdf resolution = "512"/>
      </collision>
      <collision name='right_leg_ankle_upper_collision'>
        <origin rpy="0.000000 0.000000 0.000000 " xyz="-0.026600 0.027850 0.007000 "/>
        <geometry>
          <box size="0.039 0.0027 0.03" />
        </geometry>
          <sdf resolution = "512"/>
      </collision>
      <visual name='right_leg_ankle_visual'>
            <origin rpy="-1.570796327 0.000000 0.0 " xyz="0.000000 0.000000 0.000000 "/>
        <geometry>
          <mesh filename="../meshes/right_leg_ankle.STL" />
        </geometry>
        <material name='right_leg_ankle_material'>
          <rgba>1 1 1 1</rgba>
        </material>
      </visual>
    </link>
    <joint name='right_ankle_roll' type='revolute'>
      <origin rpy="3.1392 3.13511 3.14158 " xyz="-0.0267659  -0.0694361 -0.000164943"/>
      <parent link="right_leg_ankle" />
      <child link="right_foot" />
      <axis xyz="0 1 0"  />
      <limit lower="-3.141592654"  upper="3.141592654"  effort="7"  velocity="20"  />
      <dynamics  damping="0.0347"  friction="0.0843" />
    </joint>
    <link name='right_foot'>
      <inertial>
        <origin rpy="0.000000 0.000000 0.000000 " xyz="0.012889344838027599 0.068349573591404394 -0.036000558661549199"/>
        <mass value="0.14342863960313501"/>
        <inertia ixx="0.00014133738462663599"  ixy="3.7013888509899199e-12"  ixz="-2.0333584432894299e-12"  iyy="5.0459643793834899e-05"  iyz="-3.2037887084776298e-07"  izz="0.000183618491010819" />
      </inertial>
      <collision name='right_foot_box1_collision'>
        <origin rpy="0.000000 0.000000 0.000000 " xyz="-0.016188 0.066000 -0.040926 "/>
        <geometry>
          <box size="0.09 0.126 0.016" />
        </geometry>
          <sdf resolution = "512"/>
      </collision>
      <collision name='right_foot_box2_collision'>
        <origin rpy="0.000000 0.000000 0.000000 " xyz="-0.016211 0.066023 -0.040926 "/>
        <geometry>
          <box size="0.0659544 0.149954 0.012" />
        </geometry>
          <sdf resolution = "512"/>
      </collision>
      <collision name='right_foot_box3_collision'>
        <origin rpy="0.000000 0.000000 0.000000 " xyz="-0.016188 0.066000 -0.040926 "/>
        <geometry>
          <box size="0.087 0.147 0.006" />
        </geometry>
          <sdf resolution = "512"/>
      </collision>
      <collision name='right_foot_box4_collision'>
        <origin rpy="0.000000 0.000000 0.000000 " xyz="-0.016172 0.141086 -0.037589 "/>
        <geometry>
          <box size="0.09 0.00582764 0.0186744" />
        </geometry>
          <sdf resolution = "512"/>
      </collision>
      <collision name='right_foot_cylinder11_collision'>
        <origin rpy="0.000000 0.000000 0.000000 " xyz="0.022706 0.135500 -0.057119 "/>
        <geometry>
          <cylinder radius="0.003"  length="0.014" />
        </geometry>
          <sdf resolution = "512"/>
      </collision>
      <collision name='right_foot_cylinder12_collision'>
        <origin rpy="0.000000 0.000000 0.000000 " xyz="0.022706 0.135500 -0.047119 "/>
        <geometry>
          <cylinder radius="0.0055"  length="0.006" />
        </geometry>
          <sdf resolution = "512"/>
      </collision>
      <collision name='right_foot_cylinder21_collision'>
        <origin rpy="0.000000 0.000000 0.000000 " xyz="-0.055293 0.135500 -0.057119 "/>
        <geometry>
          <cylinder radius="0.003"  length="0.014" />
        </geometry>
          <sdf resolution = "512"/>
      </collision>
      <collision name='right_foot_cylinder22_collision'>
        <origin rpy="0.000000 0.000000 0.000000 " xyz="-0.055293 0.135500 -0.047119 "/>
        <geometry>
          <cylinder radius="0.0055"  length="0.006" />
        </geometry>
          <sdf resolution = "512"/>
      </collision>
      <collision name='right_foot_cylinder31_collision'>
        <origin rpy="0.000000 0.000000 0.000000 " xyz="0.022706 -0.003500 -0.057119 "/>
        <geometry>
          <cylinder radius="0.003"  length="0.014" />
        </geometry>
          <sdf resolution = "512"/>
      </collision>
      <collision name='right_foot_cylinder32_collision'>
        <origin rpy="0.000000 0.000000 0.000000 " xyz="0.022706 -0.003500 -0.047119 "/>
        <geometry>
          <cylinder radius="0.0055"  length="0.006" />
        </geometry>
          <sdf resolution = "512"/>
      </collision>
      <collision name='right_foot_cylinder41_collision'>
        <origin rpy="0.000000 0.000000 0.000000 " xyz="-0.055293 -0.003500 -0.057119 "/>
        <geometry>
          <cylinder radius="0.003"  length="0.014" />
        </geometry>
          <sdf resolution = "512"/>
      </collision>
      <collision name='right_foot_cylinder42_collision'>
        <origin rpy="0.000000 0.000000 0.000000 " xyz="-0.055293 -0.003500 -0.047119 "/>
        <geometry>
          <cylinder radius="0.0055"  length="0.006" />
        </geometry>
          <sdf resolution = "512"/>
      </collision>
      <visual name='right_foot_visual'>
            <origin rpy="-1.570796327 0.000000 0.0 " xyz="0.000000 0.000000 0.000000 "/>
        <geometry>
          <mesh filename="../meshes/right_foot.STL" />
        </geometry>
        <material name='right_foot_material'>
          <rgba>1 1 1 1</rgba>
        </material>
      </visual>
    </link>
</robot>  
